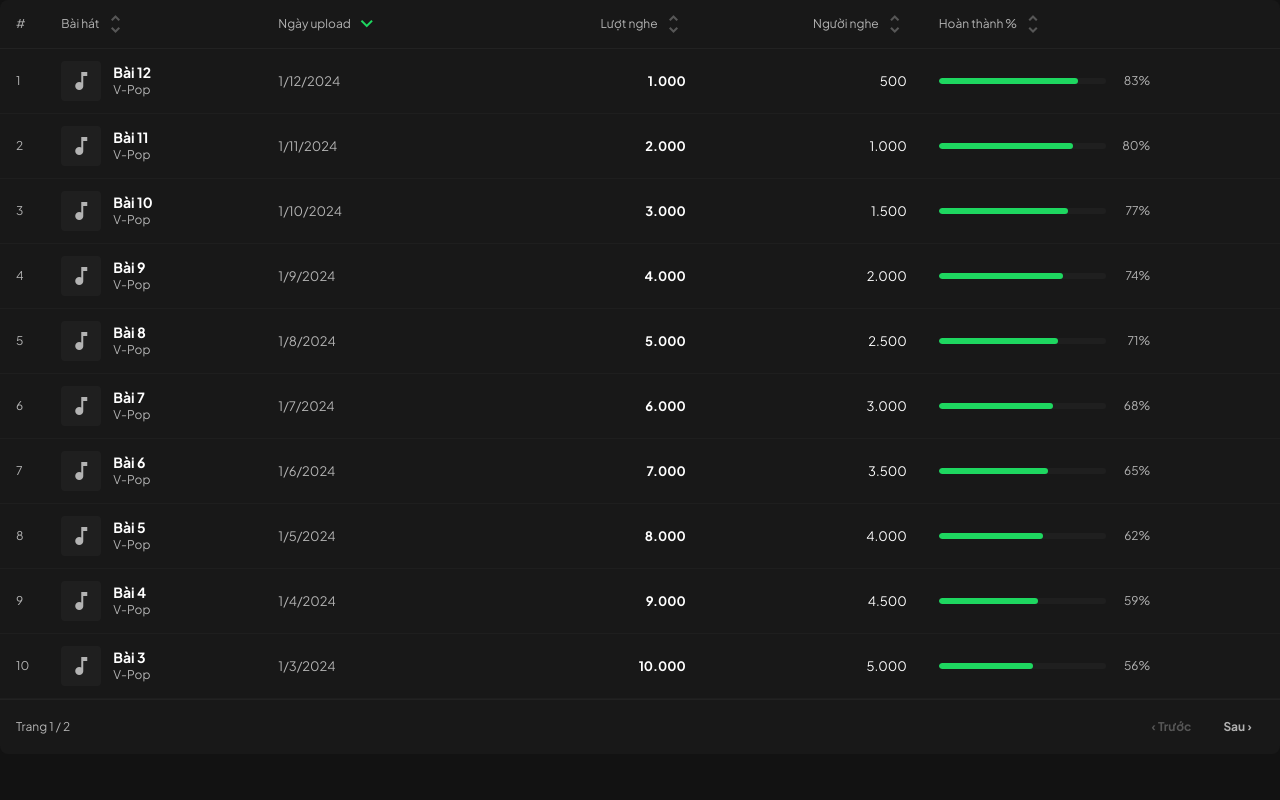
Test case: CreatorSongTable — pagination › clicking "Trang sau" navigates to second page
Click the button with aria-label "Trang sau": (1238, 727) [1211,712,1264,742]
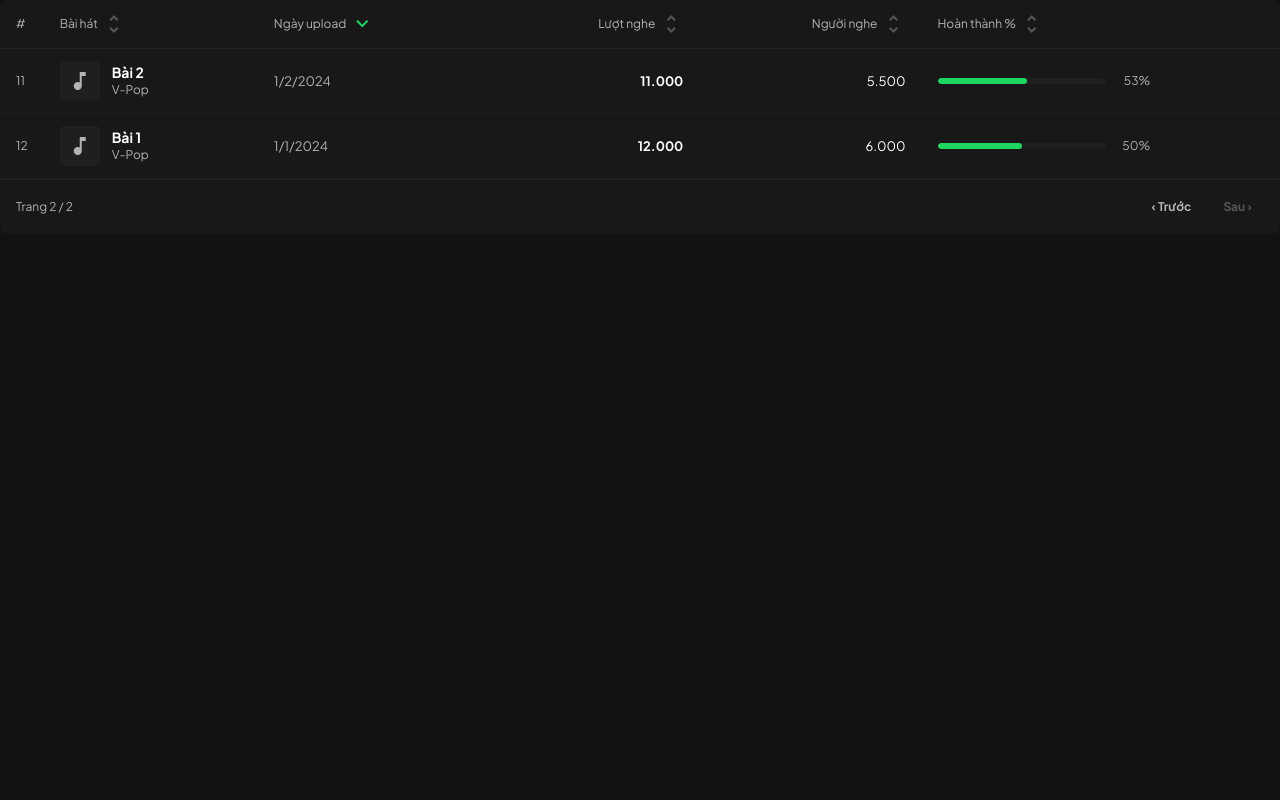
Now the text "Trang 2 / 2" is shown, box [16,198,73,216]
